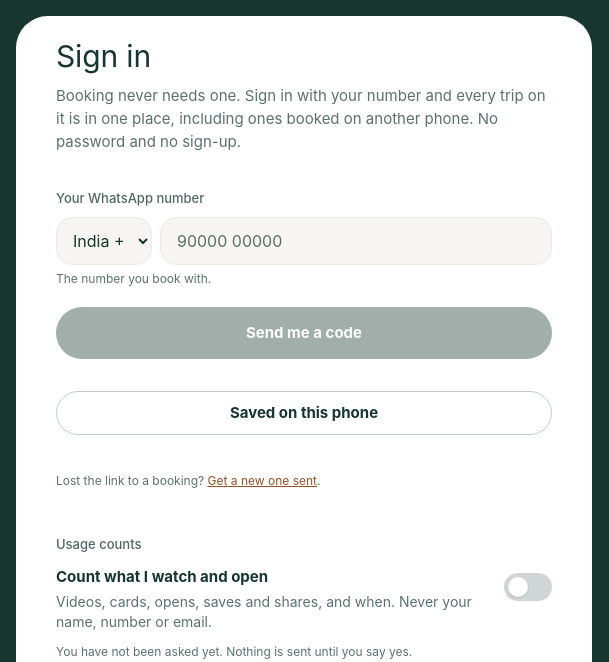
Test case: the sign-in › signs in, and the session is what unlocks the trips
Type "9000000000" into the field labelled "Your WhatsApp number" at (356, 241), box [160, 217, 552, 265]
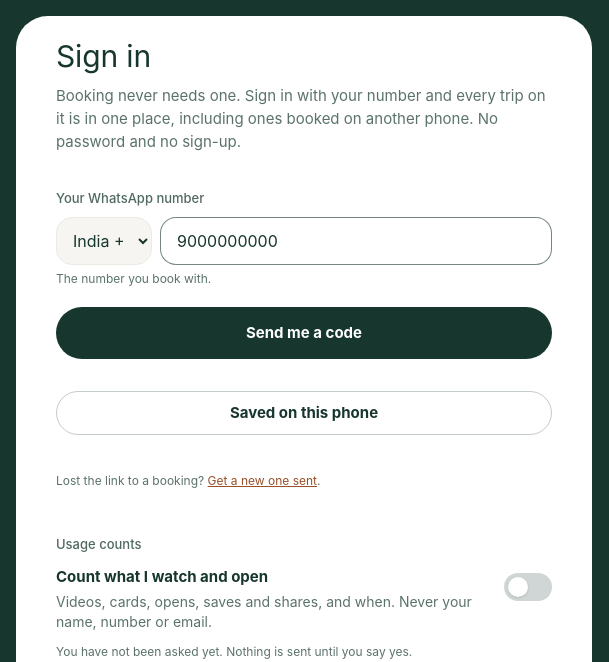
Click the button "Send me a code" at (304, 333), box [56, 307, 552, 359]
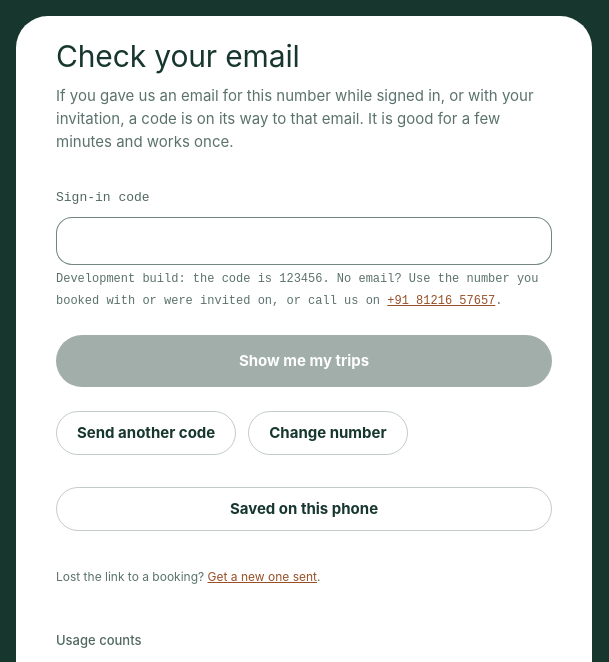
Type "123456" into the field labelled "Sign-in code" at (304, 241), box [56, 217, 552, 265]
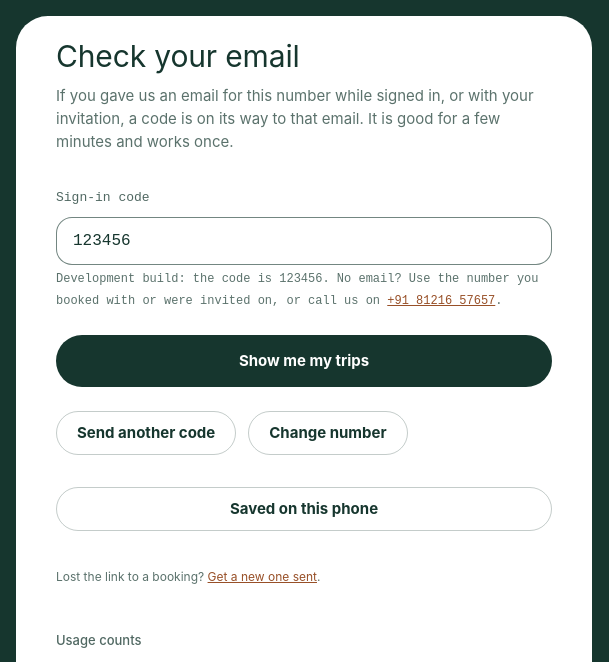
Click the button "Show me my trips" at (304, 361), box [56, 335, 552, 387]
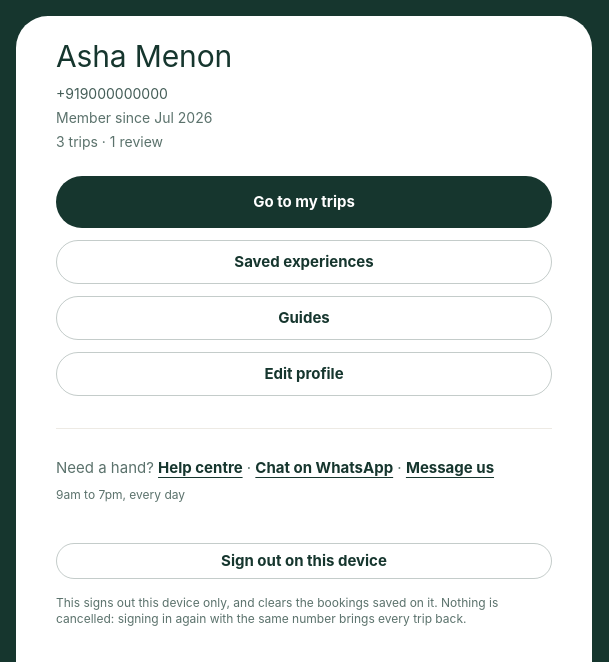
Now the button "Sign out on this device" is shown, box [56, 543, 552, 579]
